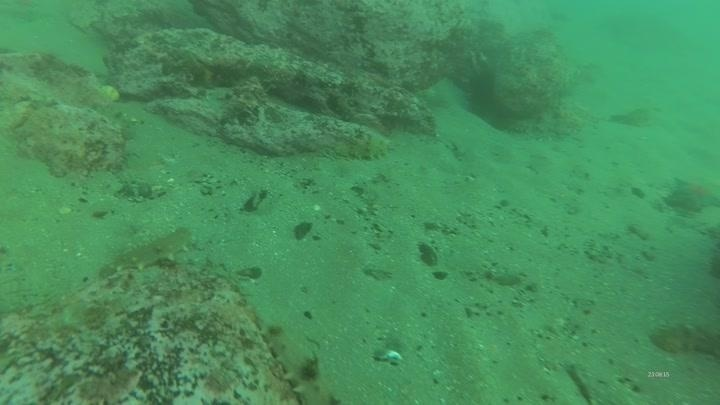echinus: (464, 65, 503, 117)
holothurian: (259, 318, 338, 405), (101, 223, 199, 277), (647, 315, 720, 360), (324, 131, 395, 164)
starfish: (662, 173, 720, 215)
